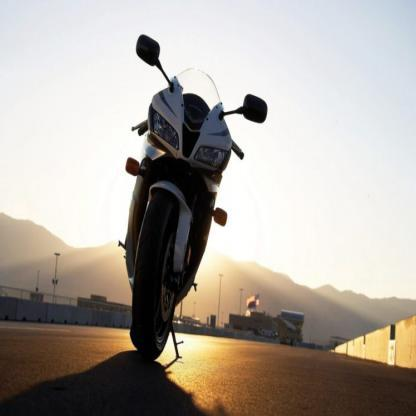Motorcycle: (109, 21, 270, 368)
